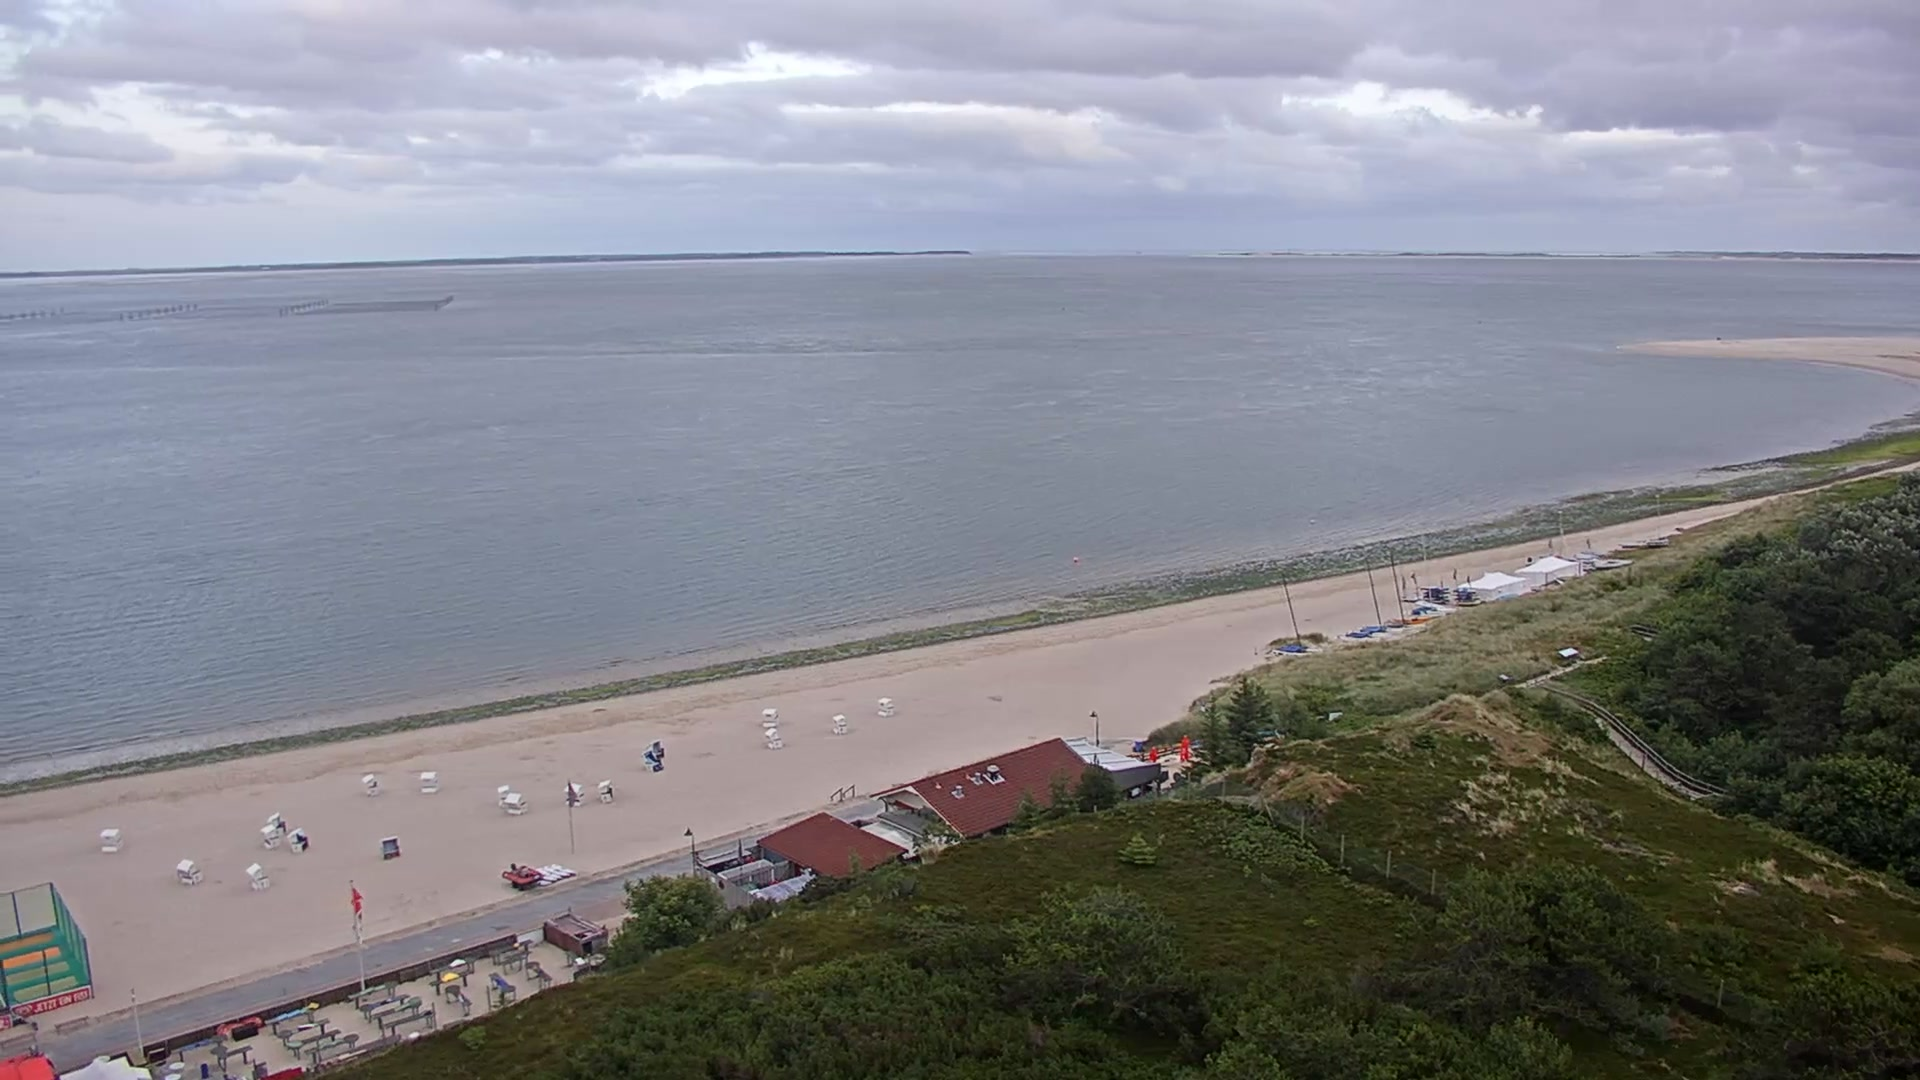human: (1452, 567, 1458, 580), (1547, 537, 1553, 550), (1586, 537, 1592, 548), (1466, 574, 1471, 586)
sea: (1264, 572, 1322, 659), (1340, 557, 1388, 637), (1384, 550, 1413, 630), (1640, 493, 1670, 549), (501, 861, 542, 890)
